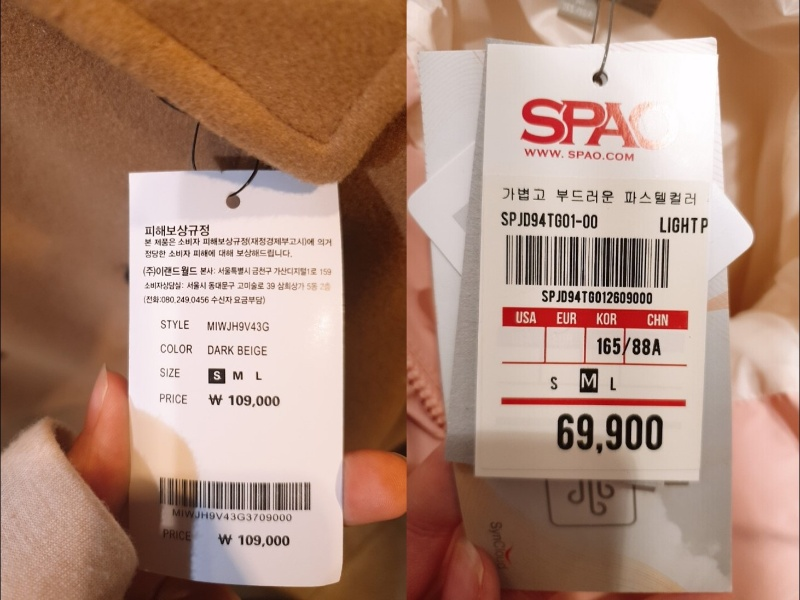tag: (476, 36, 715, 482), (127, 171, 341, 584)
text: (142, 260, 338, 306), (496, 182, 703, 207), (550, 410, 667, 453), (142, 233, 333, 258), (535, 286, 654, 310), (167, 504, 295, 524), (498, 208, 601, 231), (213, 528, 291, 549), (594, 334, 664, 357), (205, 390, 285, 410), (657, 212, 710, 236), (204, 318, 275, 333), (205, 342, 273, 357), (139, 223, 211, 237), (156, 313, 195, 333), (155, 390, 192, 406), (155, 342, 197, 356), (156, 361, 185, 381)
